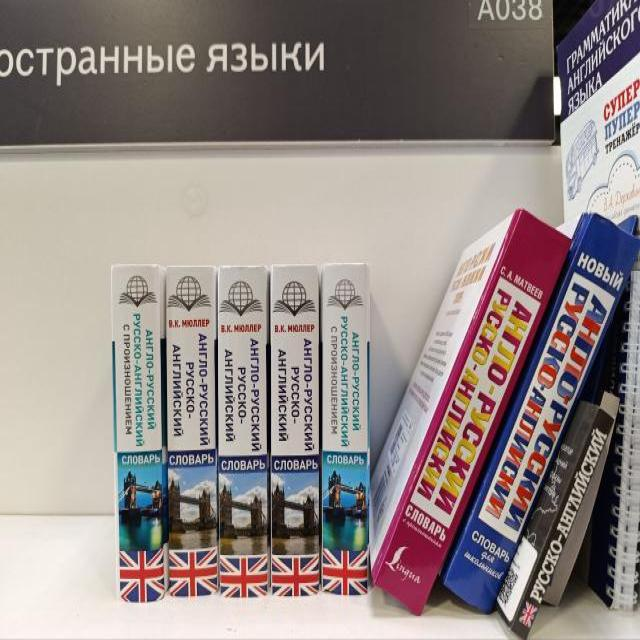book: (374, 209, 571, 617), (444, 214, 640, 616), (509, 409, 614, 640), (111, 266, 165, 605), (166, 267, 218, 597), (219, 266, 268, 598), (271, 265, 319, 595), (322, 262, 368, 594)
